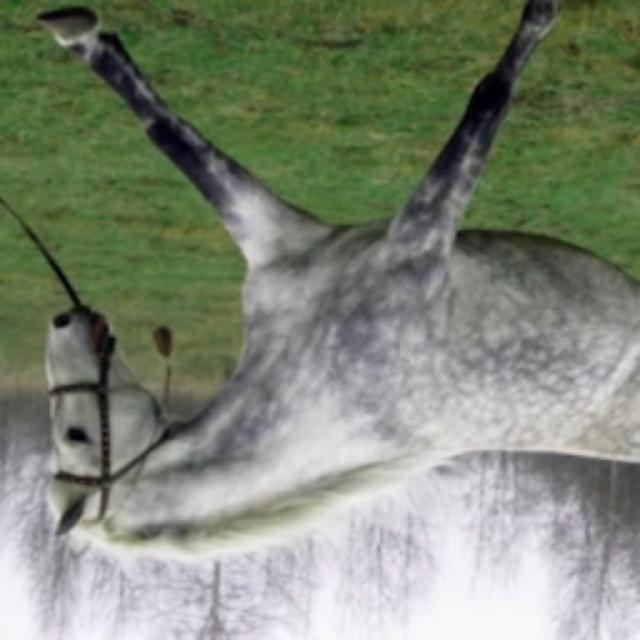Horse: (28, 3, 640, 570)
